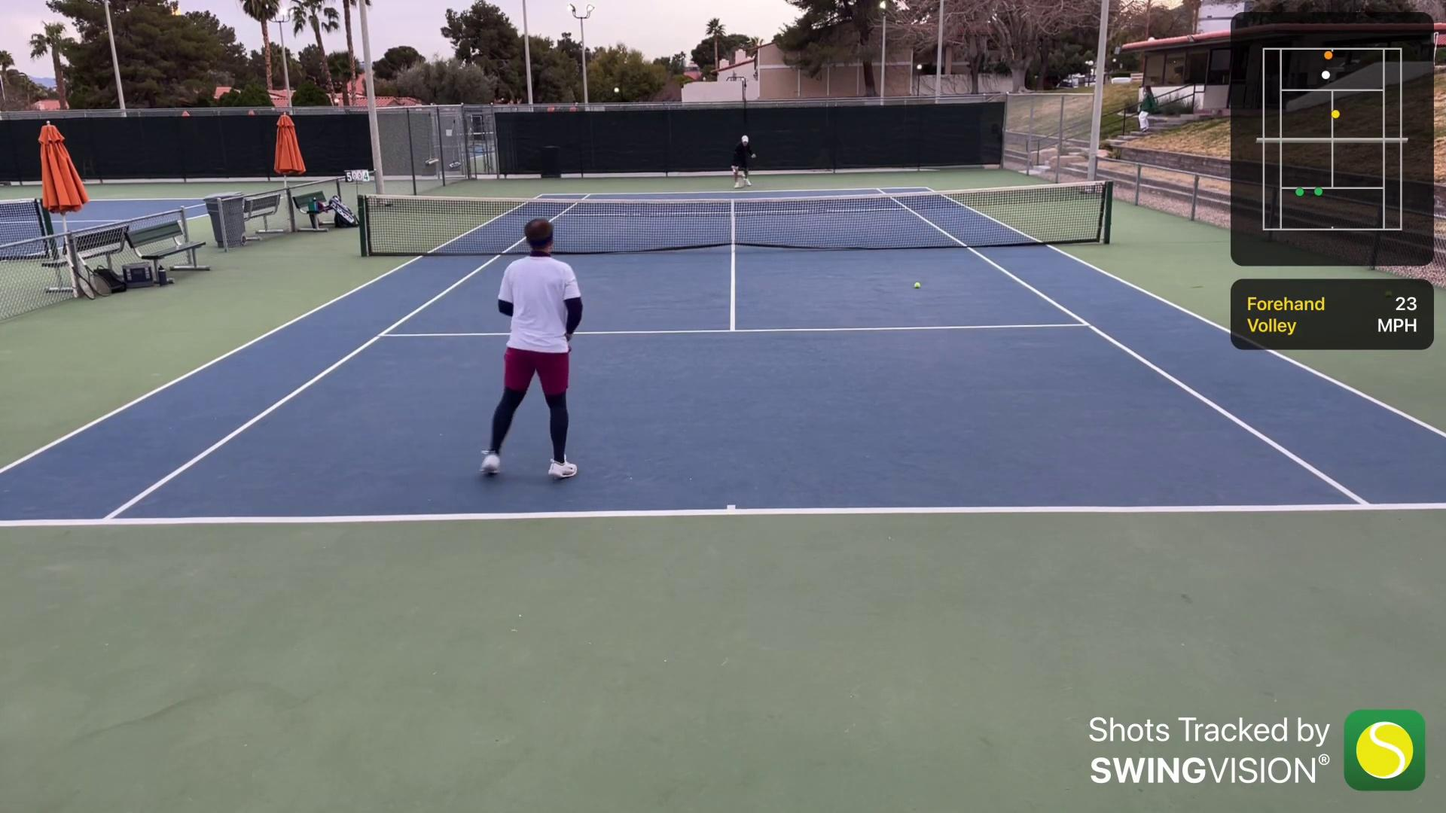ball: (912, 279, 923, 291), (741, 172, 747, 179)
